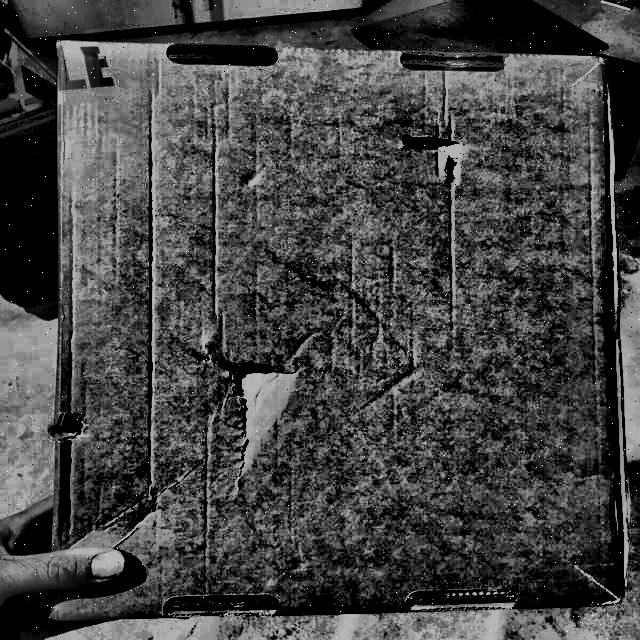box: (45, 37, 630, 619)
hole: (221, 355, 307, 481), (398, 129, 461, 158)
